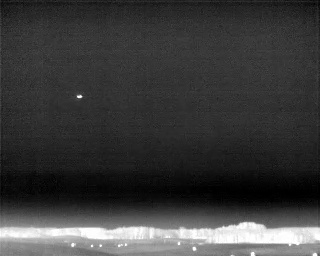AIRPLANE: (75, 92, 85, 101)
